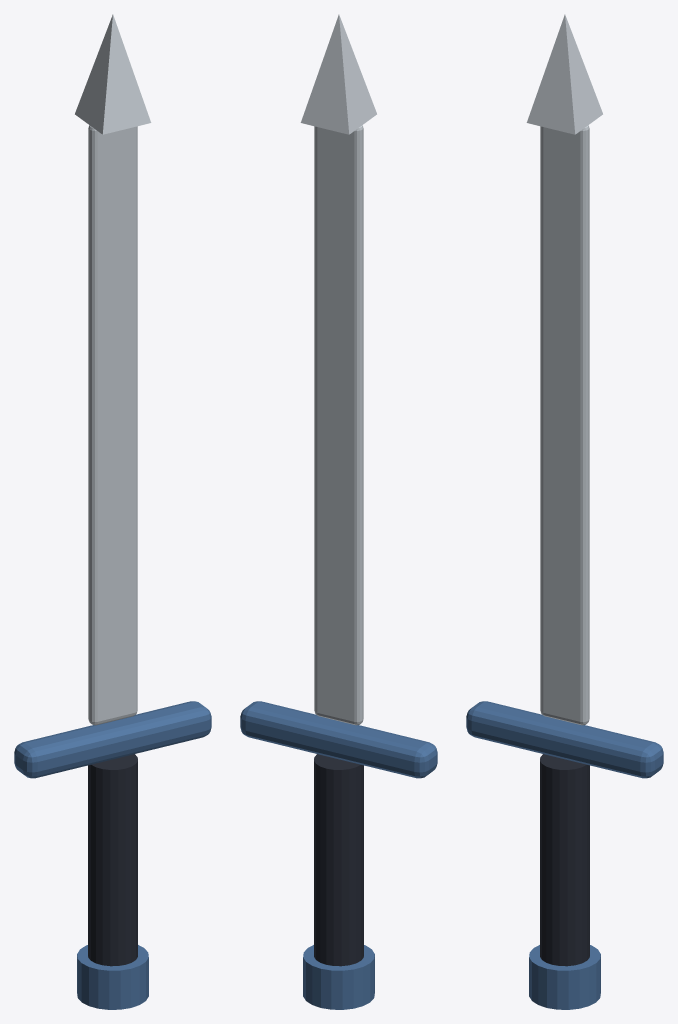
Rendered from epee_nelvyn.glb.
3 views of the same model, side by side, from view 1: azimuth 30°, elevation 25°; view 2: azimuth 150°, elevation 25°; view 3: azimuth 330°, elevation 25° (orthographic).
Parts seen in each view (by area): view 1: Lame, Poignee, Garde, Cone, Pommeau; view 2: Lame, Poignee, Garde, Cone, Pommeau; view 3: Lame, Poignee, Garde, Cone, Pommeau.
Part boxes in pixels (box(x1,y1,x2,y2)): Lame: box(88, 125, 137, 725); Poignee: box(88, 754, 137, 966); Garde: box(14, 701, 211, 778); Cone: box(75, 14, 151, 134); Pommeau: box(77, 945, 148, 1009); Lame: box(314, 125, 363, 725); Poignee: box(314, 754, 363, 966); Garde: box(240, 701, 437, 778); Cone: box(300, 14, 376, 134); Pommeau: box(303, 945, 374, 1009); Lame: box(540, 125, 589, 725); Poignee: box(540, 754, 589, 966); Garde: box(466, 701, 663, 778); Cone: box(526, 14, 602, 134); Pommeau: box(529, 945, 600, 1009).
Bounding box in the file's own units: 0.3 × 1.5 × 0.1.
